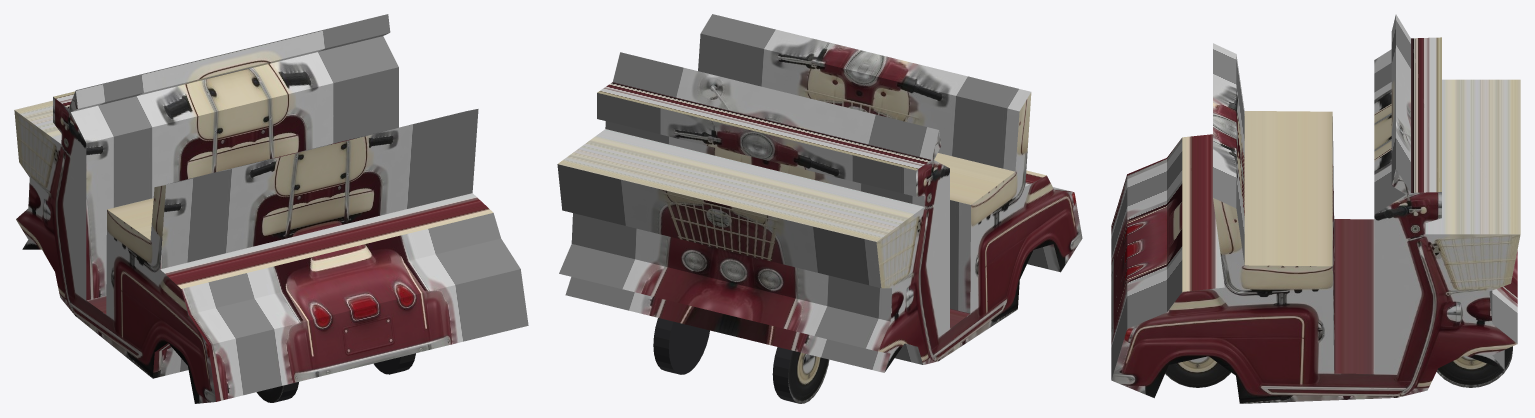
Rendered from mobility_scooter.glb.
The picture shows the model from 3 angles, left to right: view 1: azimuth 30°, elevation 25°; view 2: azimuth 150°, elevation 25°; view 3: azimuth 270°, elevation 25°; orthographic projection. The views are drawn at different scales.
Parts seen in each view (by area): view 1: mobility_scooter, wheel_BR, wheel_BL; view 2: mobility_scooter, wheel_FR, wheel_FL; view 3: mobility_scooter, wheel_FR, wheel_BR.
Boxes of the visible parts, x1,y1,x2,y2 form: mobility_scooter: (14,14,528,403); wheel_BR: (374,353,415,374); wheel_BL: (256,382,298,402); mobility_scooter: (557,14,1082,372); wheel_FR: (653,318,709,374); wheel_FL: (772,347,829,403); mobility_scooter: (1111,14,1520,403); wheel_FR: (1436,346,1512,387); wheel_BR: (1165,356,1230,387).
Size of the model in its own units: 1.25 by 0.9956 by 1.4.
Materials: 3 (1 with a texture image).
